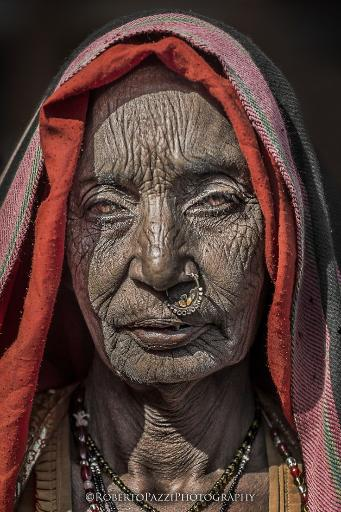left_eye: (186, 193, 238, 219)
left_lip_corner: (207, 317, 220, 335)
right_eye: (87, 194, 132, 219)
right_lip_corner: (117, 318, 136, 342)
